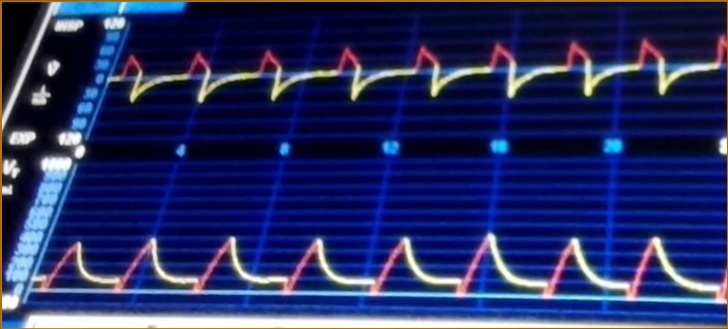Flow: (117, 30, 726, 128)
Leakage Volume: (53, 202, 727, 313)
